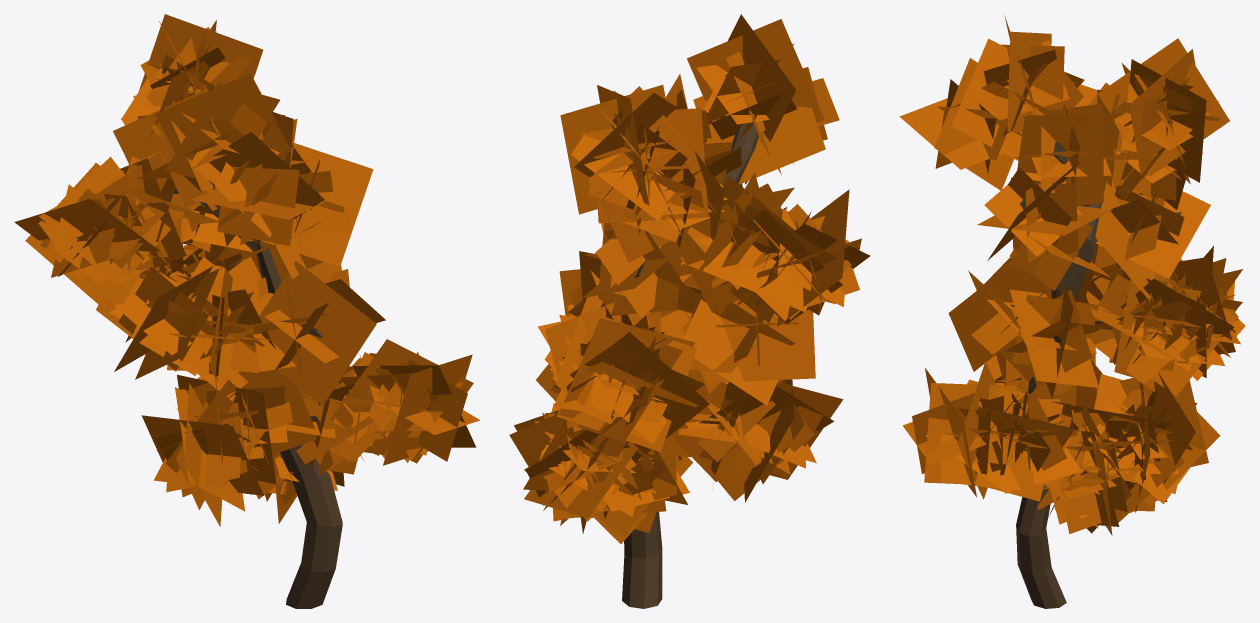
Rendered from smalltree.fbx.
The picture shows the model from 3 angles, left to right: view 1: azimuth 30°, elevation 25°; view 2: azimuth 150°, elevation 25°; view 3: azimuth 270°, elevation 25°; orthographic projection. The views are drawn at different scales.
Parts seen in each view (by area): view 1: leaves, smalltree; view 2: leaves, smalltree; view 3: leaves, smalltree.
Part boxes in pixels (x1,y1,x2,y2): leaves: (14, 14, 480, 526); smalltree: (71, 186, 429, 608); leaves: (509, 14, 870, 543); smalltree: (622, 123, 758, 608); leaves: (899, 15, 1245, 535); smalltree: (997, 142, 1181, 608).
Bounding box in the file's own units: 85.84 × 127 × 74.22.
